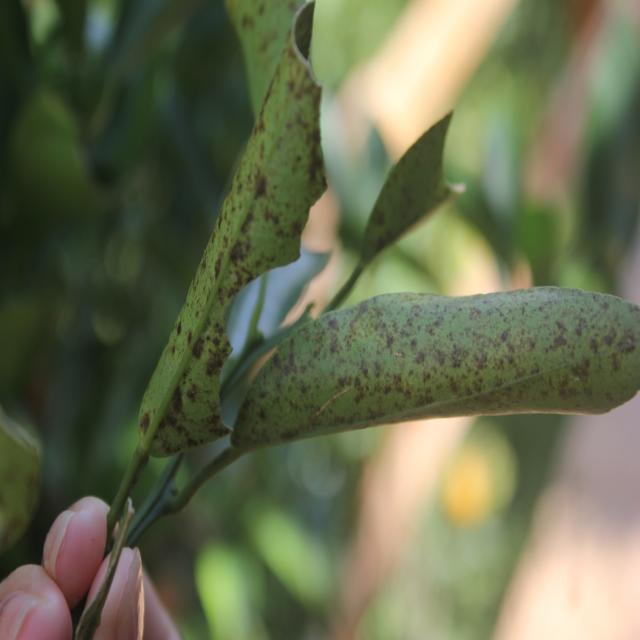melanose: (105, 16, 342, 454), (246, 286, 640, 474)
